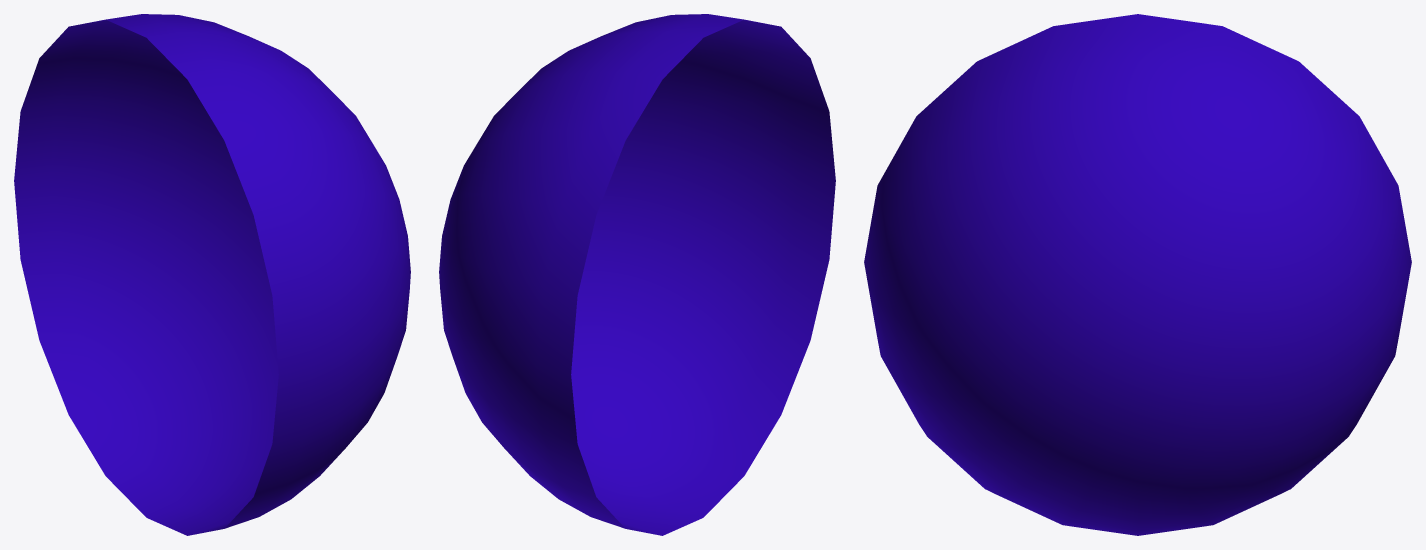
File: SM_WEP_Eff_Rasengan_A.mo.fbx
3 views of the same model, side by side, from view 1: azimuth 30°, elevation 25°; view 2: azimuth 150°, elevation 25°; view 3: azimuth 270°, elevation 25° (orthographic). The views are drawn at different scales.
Parts seen in each view (by area): view 1: SM_WEP_Eff_Rasengan_A.mo; view 2: SM_WEP_Eff_Rasengan_A.mo; view 3: SM_WEP_Eff_Rasengan_A.mo.
Part boxes in pixels (left/top/right/bottom): SM_WEP_Eff_Rasengan_A.mo: left=14, top=14, right=410, bottom=535; SM_WEP_Eff_Rasengan_A.mo: left=439, top=14, right=835, bottom=535; SM_WEP_Eff_Rasengan_A.mo: left=864, top=14, right=1411, bottom=535.
Size of the model in its own units: 0.5 by 1 by 1.
